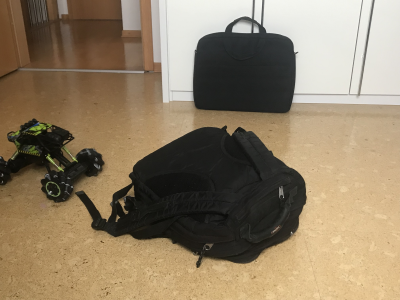remote control car: (1, 116, 106, 203)
